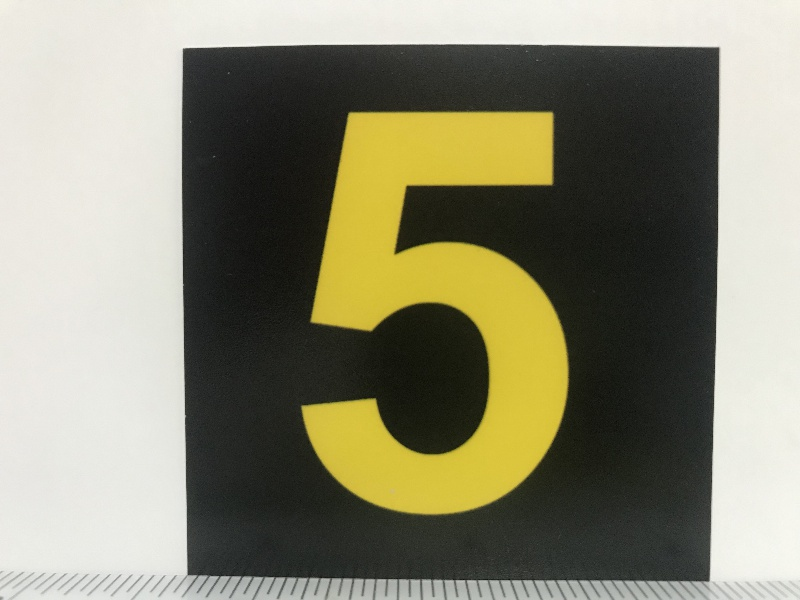Five-10: (191, 53, 705, 571)
